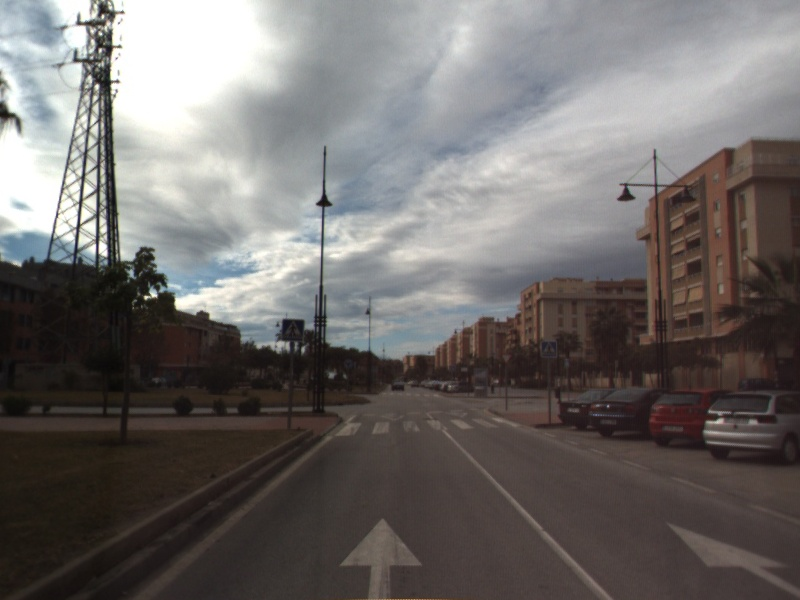STRAIGHT: (664, 520, 800, 598), (337, 516, 424, 600)
